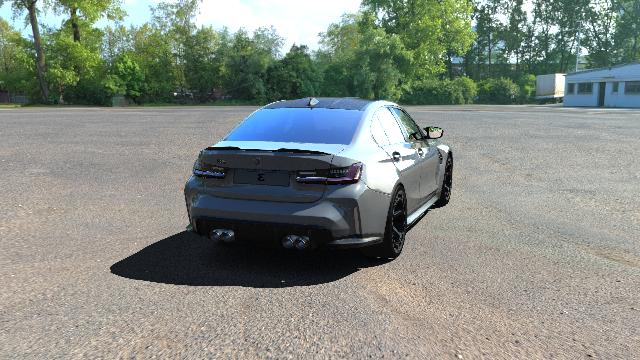License Plate: (233, 170, 289, 188)
